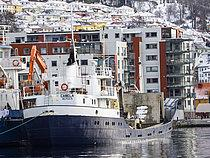Ship: (18, 67, 187, 144)
